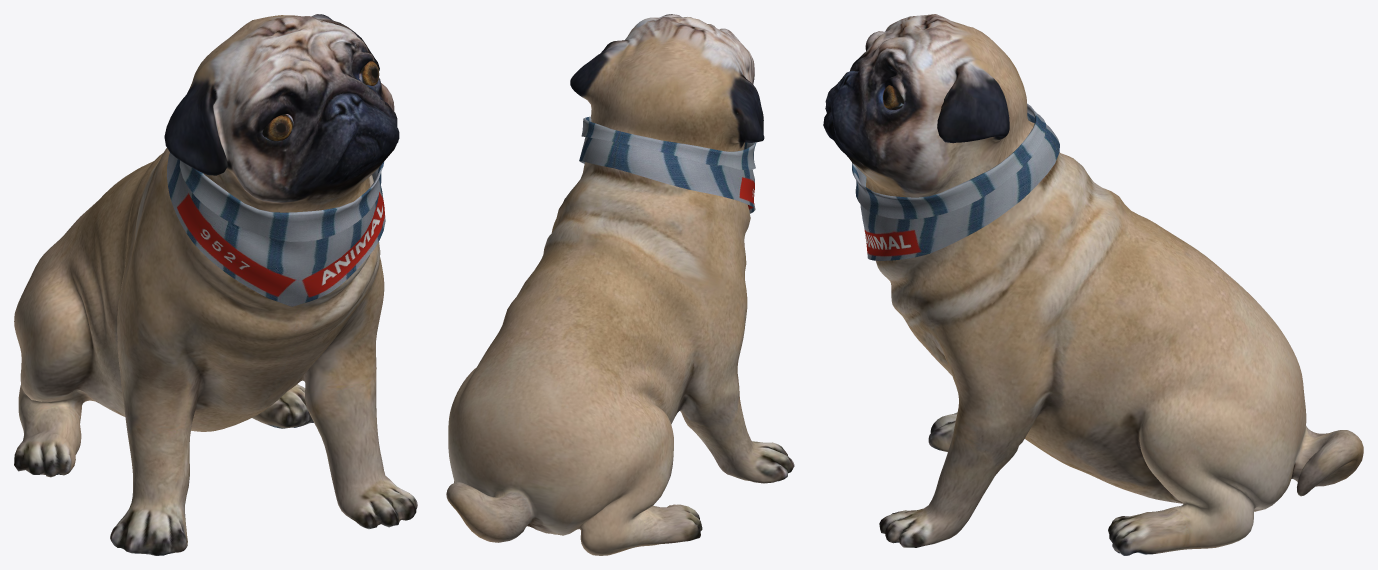
File: pug.glb
3 renders of one model, left to right at view 1: azimuth 30°, elevation 25°; view 2: azimuth 150°, elevation 25°; view 3: azimuth 270°, elevation 25°, orthographic. The views are drawn at different scales.
Parts seen in each view (by area): view 1: Shar Pei_Shar Pei_0, Shar Pei_Shar Pei18_0, Shar Pei_Shar Pei16_0; view 2: Shar Pei_Shar Pei_0, Shar Pei_Shar Pei18_0; view 3: Shar Pei_Shar Pei_0, Shar Pei_Shar Pei18_0.
Part boxes in pixels (x1=…): Shar Pei_Shar Pei_0: x1=14, y1=14, x2=417, y2=555; Shar Pei_Shar Pei18_0: x1=166, y1=153, x2=385, y2=306; Shar Pei_Shar Pei16_0: x1=262, y1=60, x2=379, y2=141; Shar Pei_Shar Pei_0: x1=446, y1=14, x2=794, y2=555; Shar Pei_Shar Pei18_0: x1=579, y1=116, x2=756, y2=213; Shar Pei_Shar Pei_0: x1=823, y1=14, x2=1363, y2=555; Shar Pei_Shar Pei18_0: x1=852, y1=103, x2=1059, y2=260.
Bounding box in the file's own units: 0.2128 × 0.3515 × 0.3616.
Materials: 3 (3 with a texture image).
